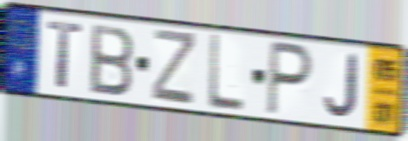B: (89, 21, 136, 99)
J: (322, 52, 360, 121)
L: (206, 31, 246, 114)
P: (264, 37, 315, 119)
T: (46, 17, 85, 92)
Z: (150, 26, 198, 109)
